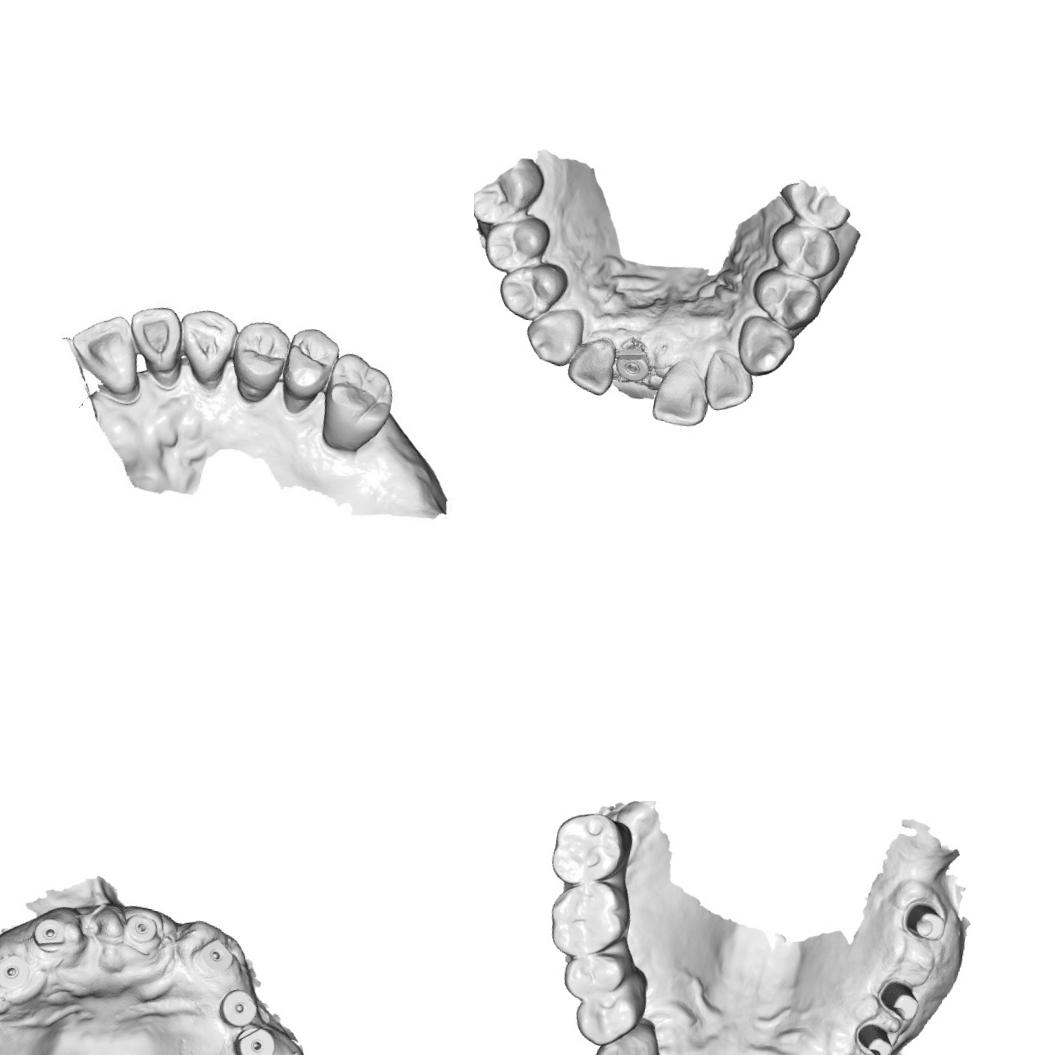abutment: (896, 895, 950, 944), (874, 974, 924, 1024), (849, 1017, 900, 1055)
canine: (172, 302, 240, 387), (519, 300, 587, 372), (730, 311, 798, 381), (585, 1017, 660, 1055)
implant: (215, 985, 261, 1030), (194, 934, 236, 977), (229, 1022, 279, 1055), (29, 914, 68, 954), (615, 344, 654, 383), (0, 949, 32, 993), (121, 912, 160, 948)
incisor: (63, 305, 146, 396), (118, 298, 188, 388), (648, 355, 714, 430), (698, 347, 757, 418), (562, 330, 619, 400)
molar: (542, 872, 638, 967), (318, 348, 400, 448), (546, 803, 628, 893)
premolar: (568, 973, 649, 1054), (274, 322, 342, 408), (224, 316, 294, 399), (493, 253, 571, 326), (745, 266, 826, 336), (478, 207, 552, 278), (765, 218, 844, 281), (557, 944, 631, 1007)
